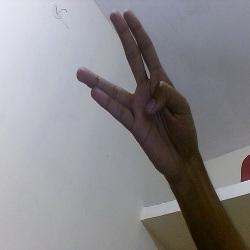hand: (72, 8, 203, 171)
